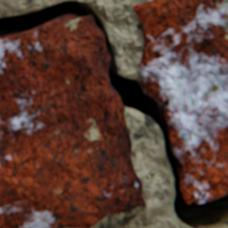brick: (0, 15, 144, 227), (132, 0, 227, 202)
crack: (0, 0, 227, 227)
